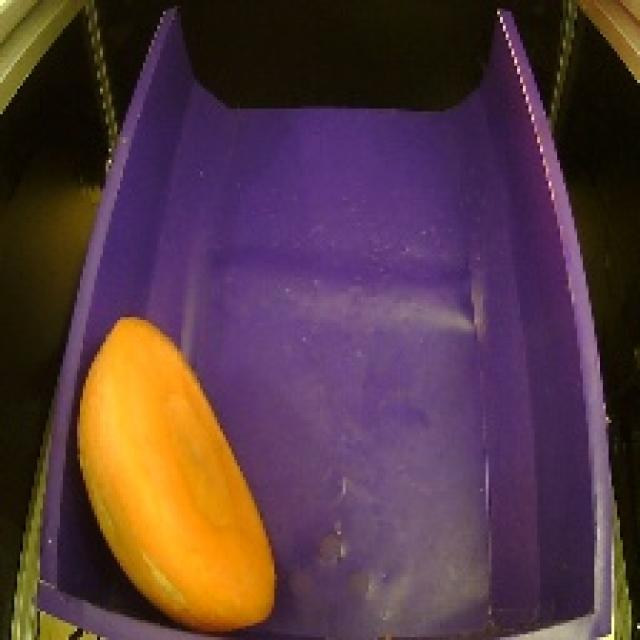carrots: (65, 305, 280, 640)
